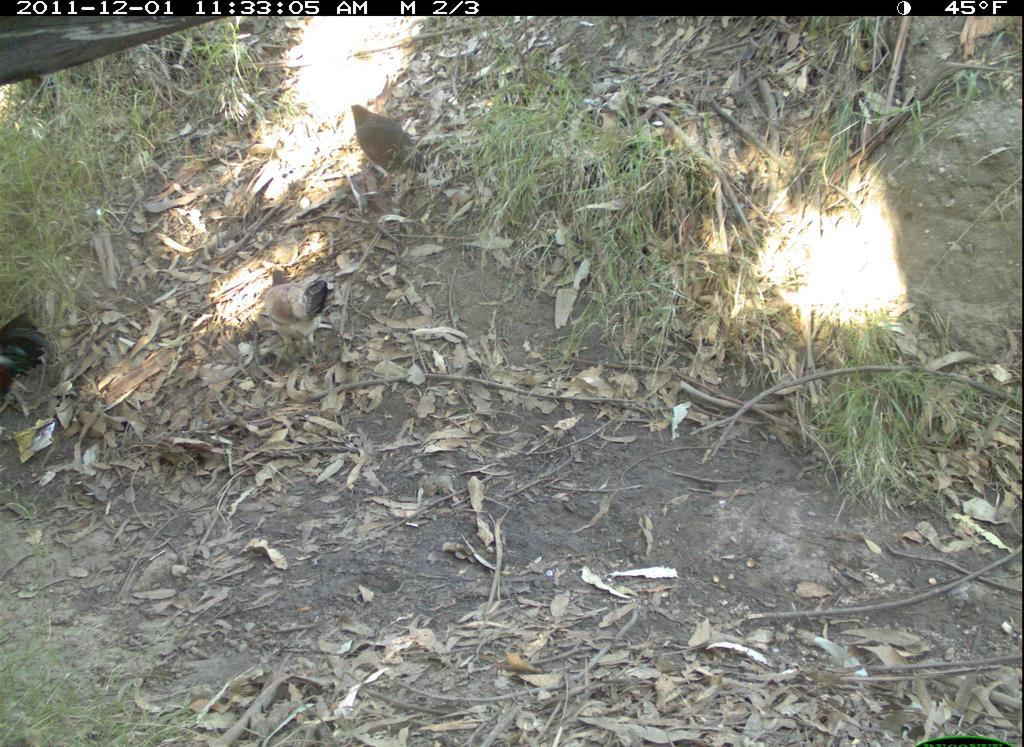bird: (347, 98, 442, 200), (248, 250, 337, 355), (2, 308, 55, 411)
